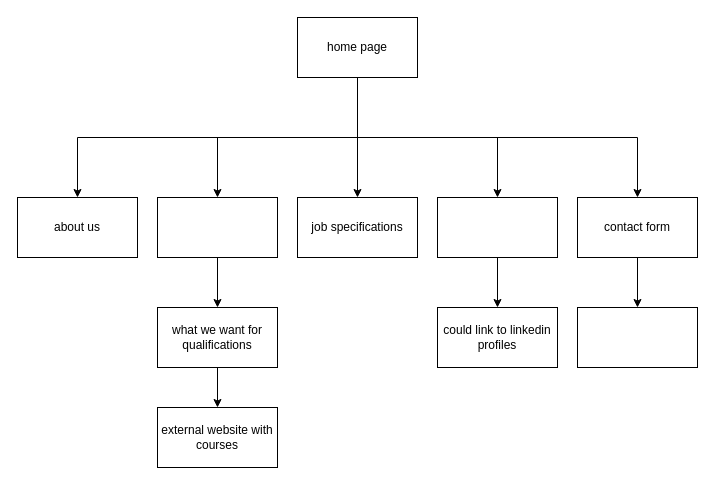
Some shapes in this 715 by 485 pixel diagram are drawn without their labels. Here are the shapes that lost their labels. From the top down, the centre of each, then its label:
(x=217, y=227): qualifications
(x=497, y=227): previous trainees
(x=637, y=337): data to external db
